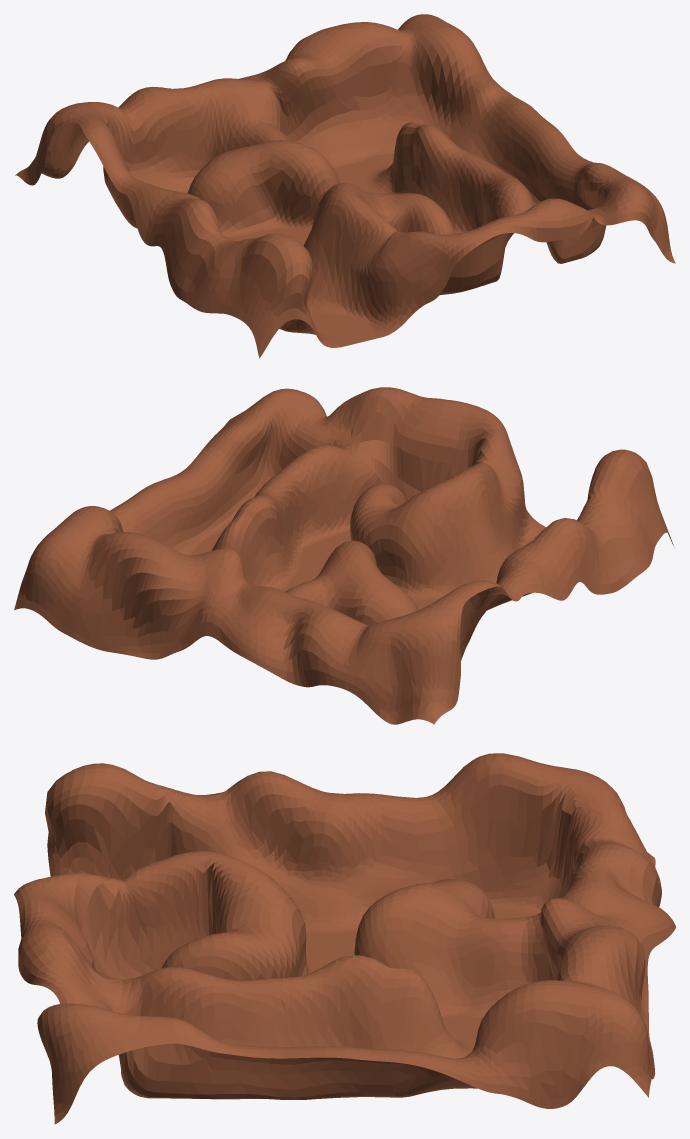
The model's file is big_level.glb.
3 renders of one model, top to bottom at view 1: azimuth 30°, elevation 25°; view 2: azimuth 150°, elevation 25°; view 3: azimuth 270°, elevation 25°, orthographic. The views are drawn at different scales.
Visible parts, largest first — view 1: Plane; view 2: Plane; view 3: Plane.
Part boxes in pixels (x1,y1,x2,y2): Plane: (15,14,675,358); Plane: (14,387,673,724); Plane: (14,753,675,1124).
Bounding box in the file's own units: 643 × 148 × 669.
